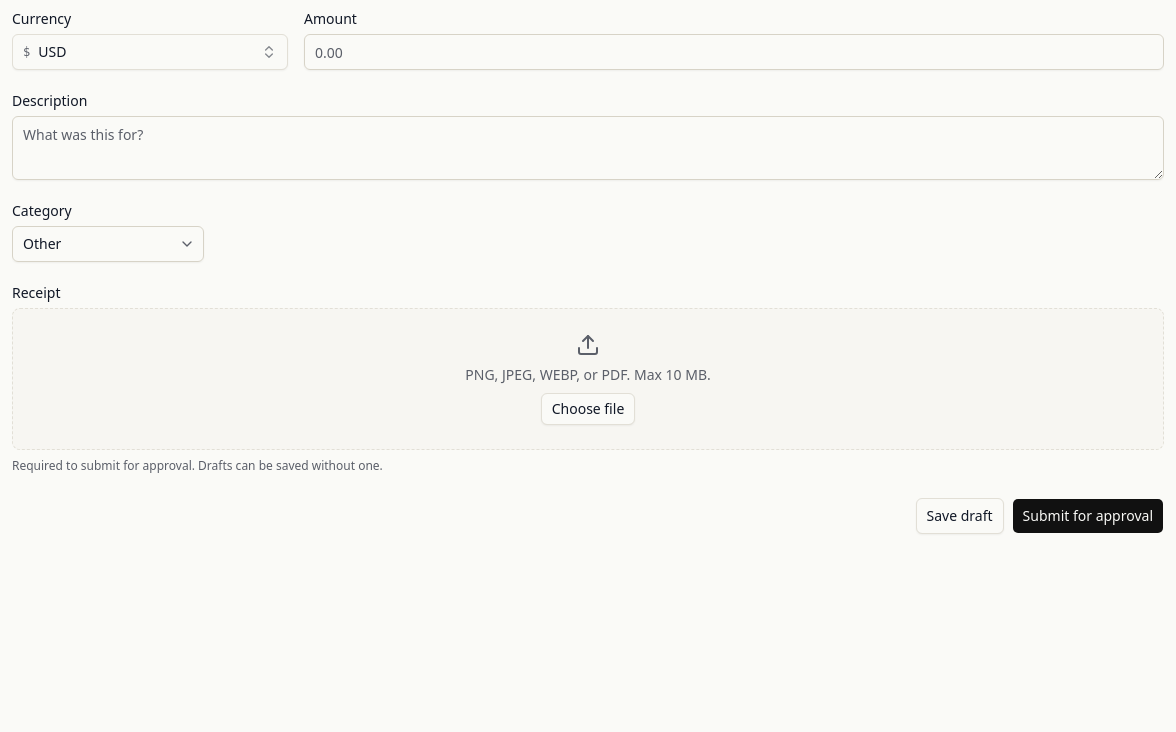
Test case: <ExpenseForm /> (create mode) › blocks Submit when no receipt is attached and surfaces an inline error
The image size is (1176, 732).
Type "12.34" into the field labelled "Amount" at (734, 52), box [304, 34, 1164, 70]
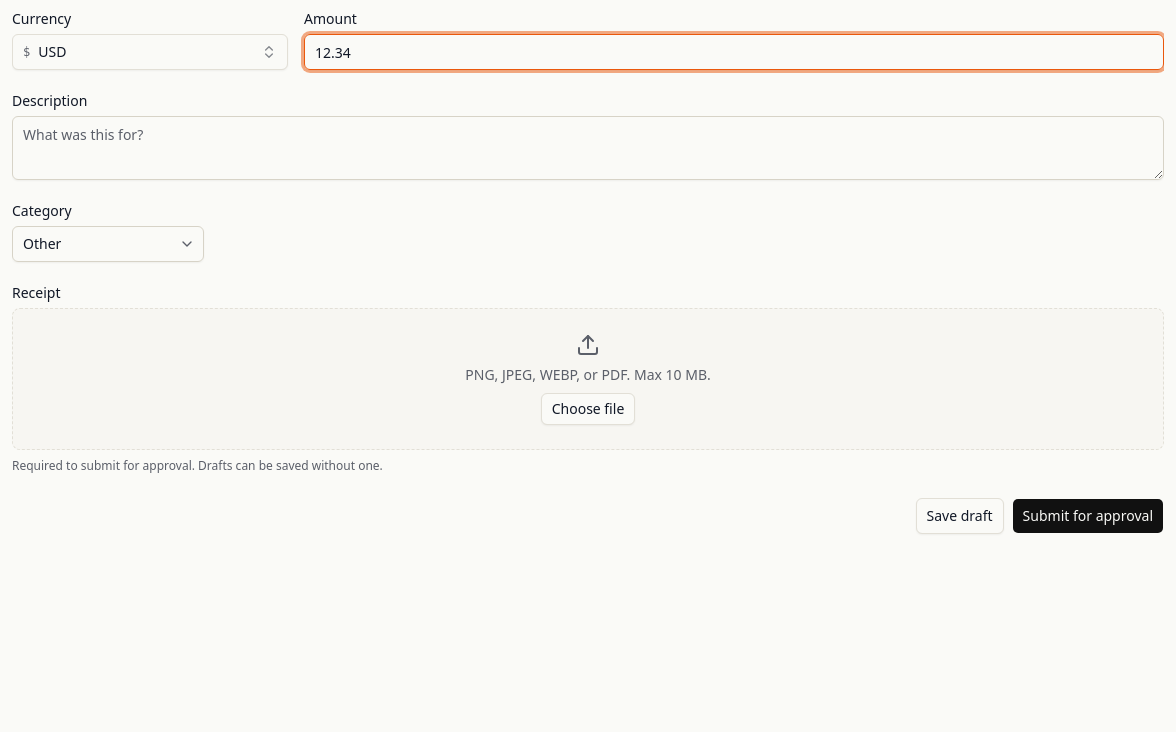
Type "Lunch" into the text box labelled "Description" at (588, 148), box [12, 116, 1164, 180]
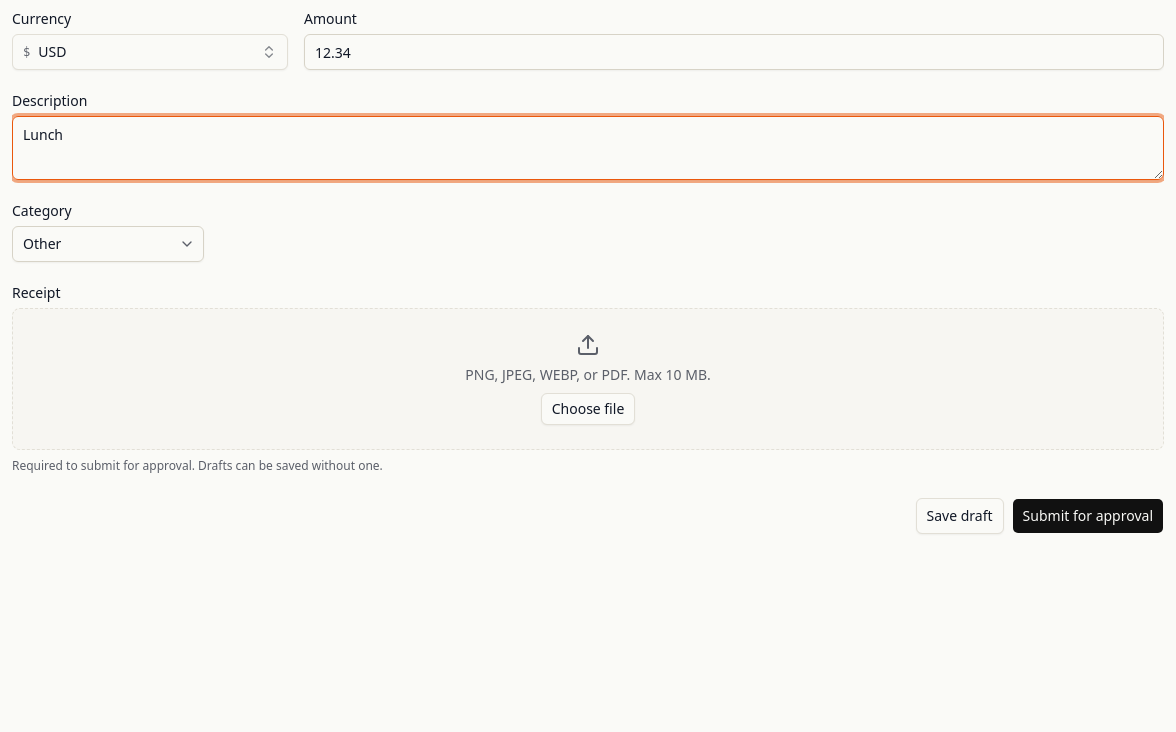
Click the button "Submit for approval" at (1088, 516), box [1012, 498, 1164, 534]
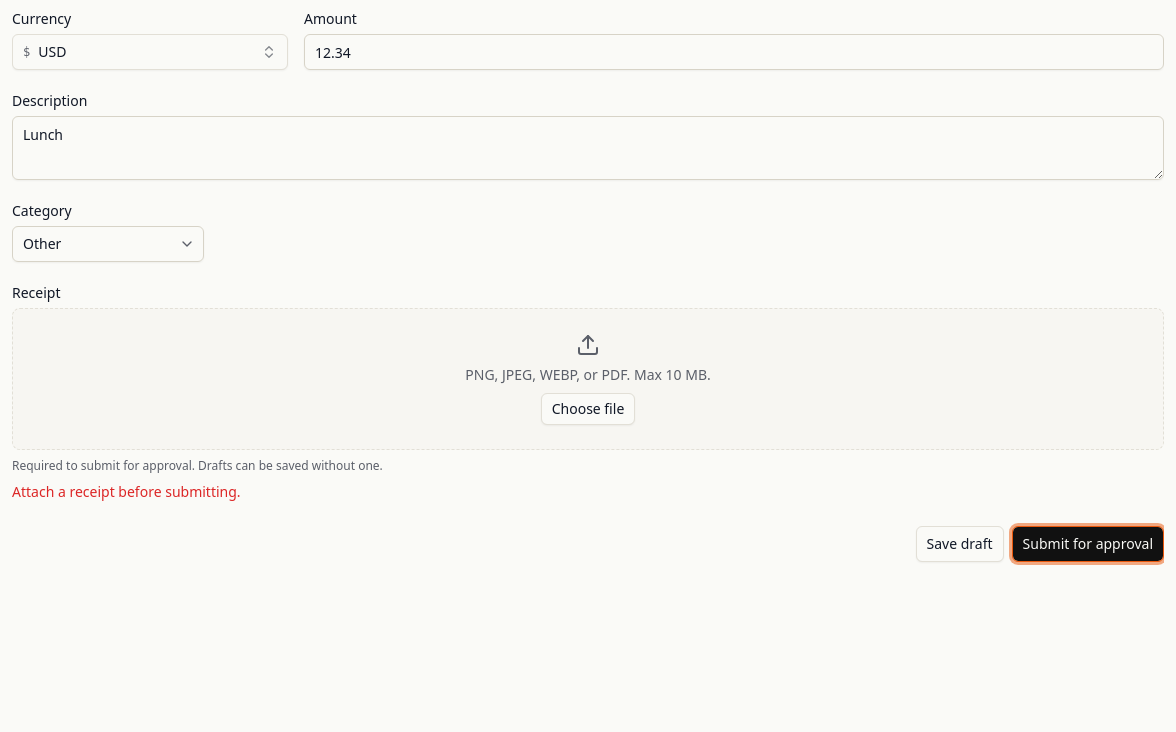
Check: the text "Attach a receipt before submitting." is shown, box [12, 482, 241, 501]
